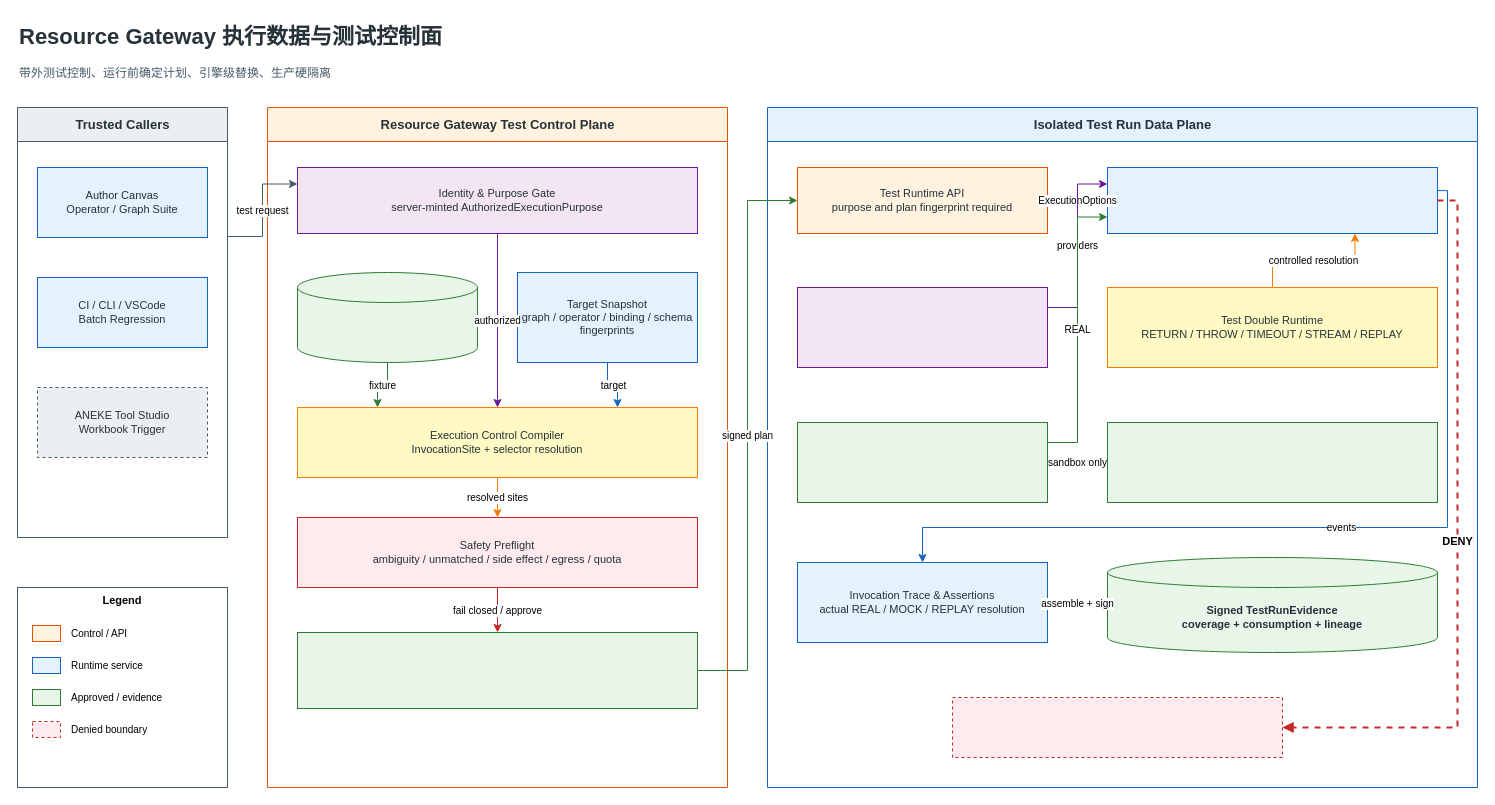
Some shapes in this 1495 by 805 pixel diagram are drawn without their labels. Here are the shapes that lost their labels. From the top down, the centre of each, then its label:
(x=1272, y=200): BLOGE Engine ExecutionOptions + OperatorResolverChain
(x=387, y=317): Suite / Fixture Registry immutable revisions + payload governance
(x=922, y=327): ExecutionServices logical time / seed / id / function resolver
(x=922, y=462): Frozen Real Runtime Bindings operator implementation fingerprint
(x=1272, y=462): Sandbox Dependencies test identity + egress allowlist + journal
(x=497, y=670): EffectiveExecutionPlan immutable + signed + expiring
(x=1117, y=727): Production Dependencies hard denied for test purpose
